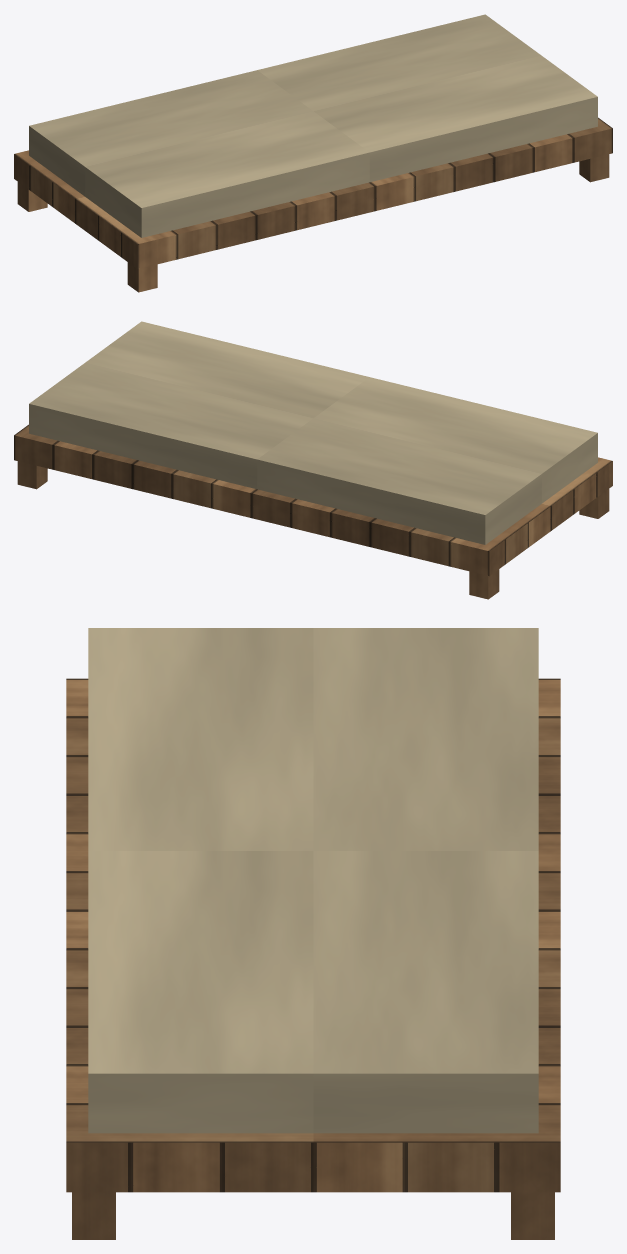
The model's file is Bed_Pallet_1_LOD2.gltf.
3 views of the same model, one above another, from view 1: azimuth 30°, elevation 25°; view 2: azimuth 150°, elevation 25°; view 3: azimuth 270°, elevation 25° (orthographic). The views are drawn at different scales.
Visible parts, largest first — view 1: Bed_Pallet_1_LOD2; view 2: Bed_Pallet_1_LOD2; view 3: Bed_Pallet_1_LOD2.
Boxes of the visible parts, x1,y1,x2,y2 form: Bed_Pallet_1_LOD2: (14, 14, 612, 292); Bed_Pallet_1_LOD2: (14, 321, 612, 599); Bed_Pallet_1_LOD2: (66, 628, 560, 1239).
Bounding box in the file's own units: 2 × 0.32 × 0.9.
Materials: 2 (2 with a texture image).
